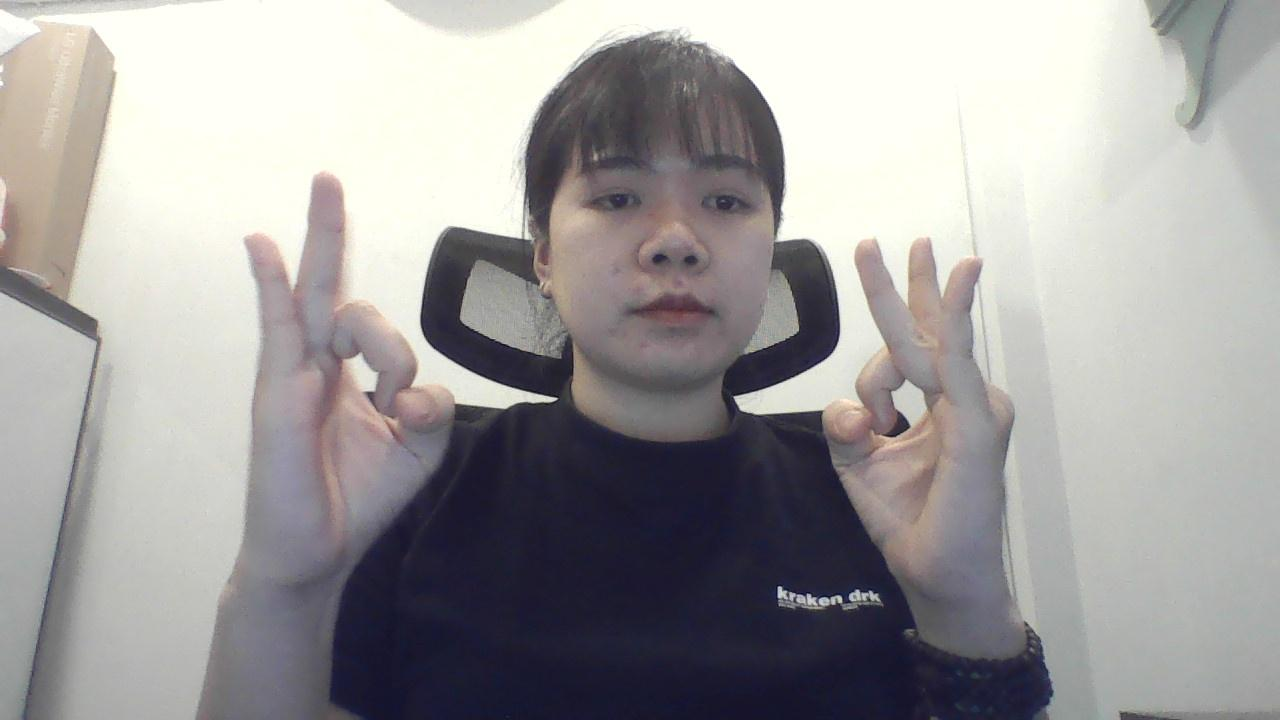H: (187, 167, 472, 615), (819, 217, 1022, 643)
